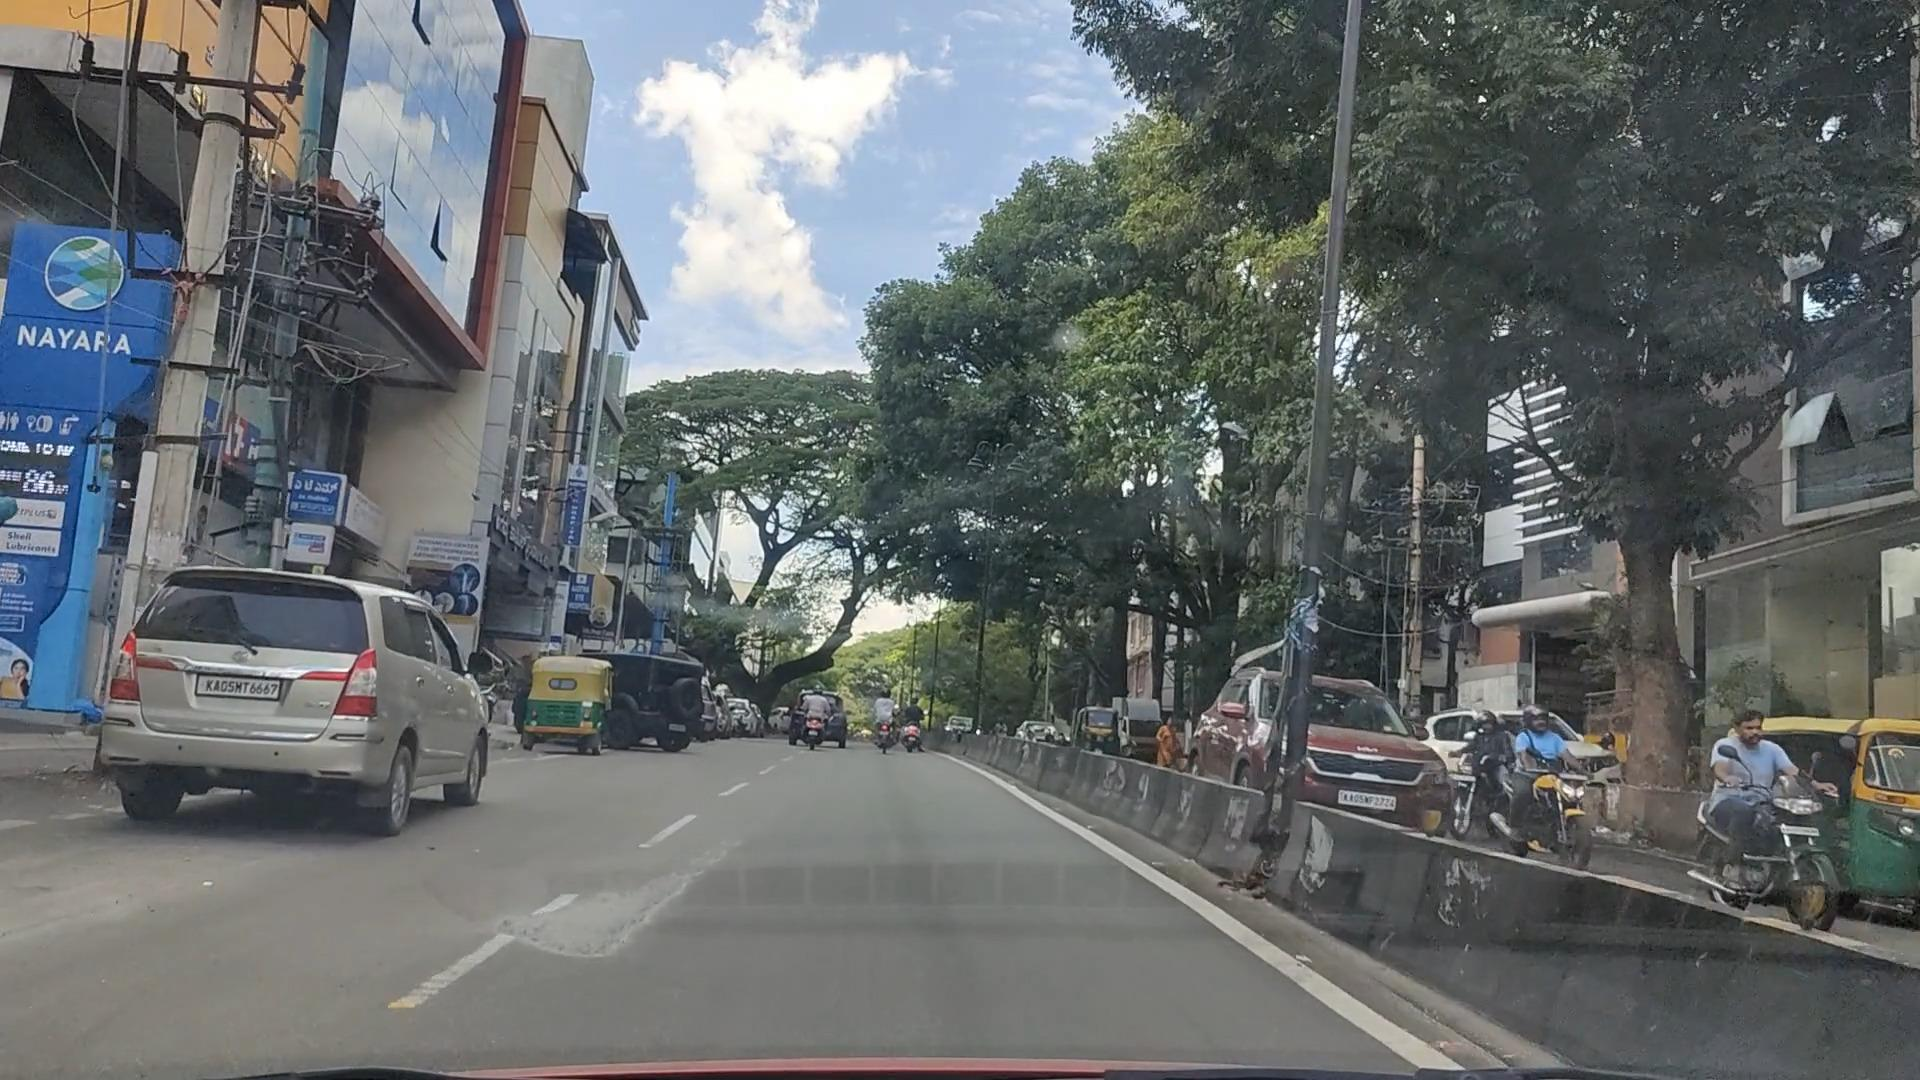LMV: (117, 521, 493, 855)
RoadDamages: (485, 876, 695, 993)
